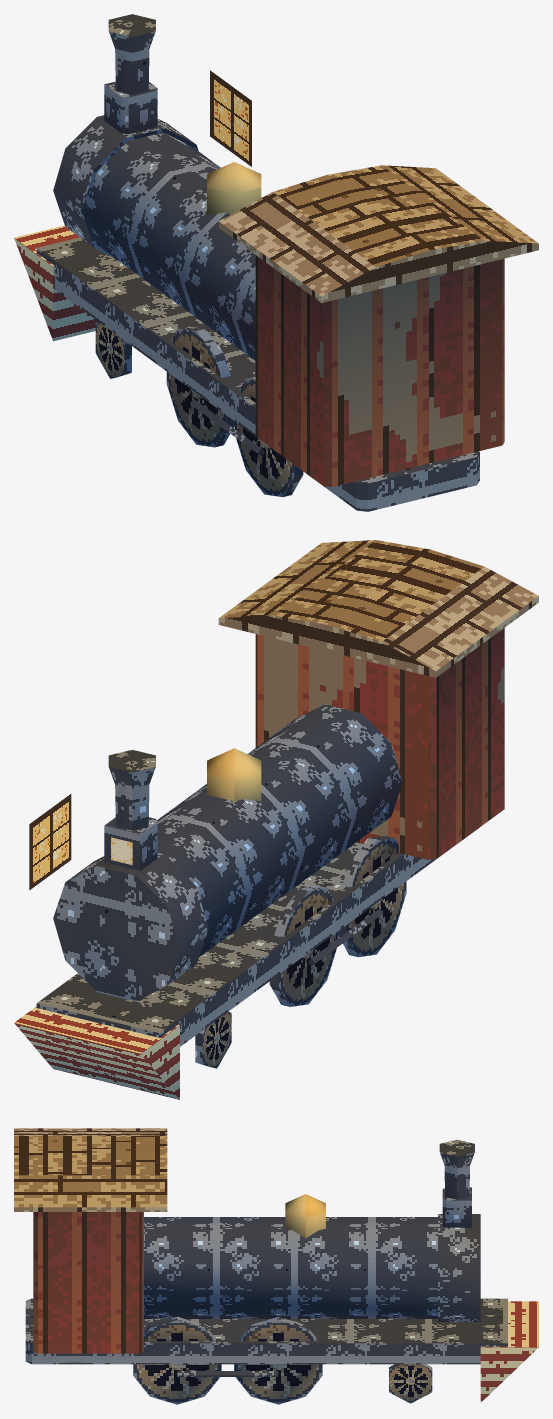
File: wrail.locomotive__straight_stack.glb
The picture shows the model from 3 angles, top to bottom: view 1: azimuth 30°, elevation 25°; view 2: azimuth 150°, elevation 25°; view 3: azimuth 270°, elevation 25°; orthographic projection. The views are drawn at different scales.
Parts seen in each view (by area): view 1: kit_cab, kit_cab_roof, kit_boiler, kit_frame, kit_drivers, kit_smokebox, kit_pilot, kit_stack, kit_card_panes, kit_domes, kit_lamp, kit_leaders (+1 smaller); view 2: kit_boiler, kit_cab, kit_cab_roof, kit_frame, kit_smokebox, kit_pilot, kit_drivers, kit_stack, kit_card_panes, kit_domes, kit_lamp, kit_leaders; view 3: kit_boiler, kit_frame, kit_cab, kit_cab_roof, kit_drivers, kit_smokebox, kit_pilot, kit_stack, kit_leaders, kit_domes, kit_lamp, kit_rods.
Boxes of the visible parts, <box> form: kit_cab: <box>255,255,504,486</box>; kit_cab_roof: <box>218,165,538,302</box>; kit_boiler: <box>85,132,261,360</box>; kit_frame: <box>36,237,479,511</box>; kit_drivers: <box>166,326,303,496</box>; kit_smokebox: <box>53,115,198,259</box>; kit_pilot: <box>14,225,98,341</box>; kit_stack: <box>108,14,155,94</box>; kit_card_panes: <box>210,70,251,166</box>; kit_domes: <box>207,162,261,214</box>; kit_lamp: <box>104,81,157,133</box>; kit_leaders: <box>95,322,131,378</box>; kit_boiler: <box>157,704,402,956</box>; kit_cab: <box>255,628,504,859</box>; kit_cab_roof: <box>218,540,538,677</box>; kit_frame: <box>36,828,478,1046</box>; kit_smokebox: <box>53,853,208,1001</box>; kit_pilot: <box>14,1006,179,1099</box>; kit_drivers: <box>269,836,406,1006</box>; kit_stack: <box>108,749,155,830</box>; kit_card_panes: <box>29,794,71,890</box>; kit_domes: <box>207,748,261,801</box>; kit_lamp: <box>104,817,157,870</box>; kit_leaders: <box>195,1011,231,1068</box>; kit_boiler: <box>144,1217,437,1318</box>; kit_frame: <box>25,1298,507,1364</box>; kit_cab: <box>33,1212,143,1353</box>; kit_cab_roof: <box>14,1128,167,1211</box>; kit_drivers: <box>133,1317,322,1404</box>; kit_smokebox: <box>438,1214,480,1321</box>; kit_pilot: <box>480,1301,538,1402</box>; kit_stack: <box>439,1139,474,1199</box>; kit_leaders: <box>389,1364,432,1403</box>; kit_domes: <box>285,1194,325,1238</box>; kit_lamp: <box>442,1187,471,1227</box>; kit_rods: <box>177,1371,278,1376</box>.
Bounding box in the file's own units: 2.4 × 3.35 × 6.75.
Materials: 8 (7 with a texture image).
